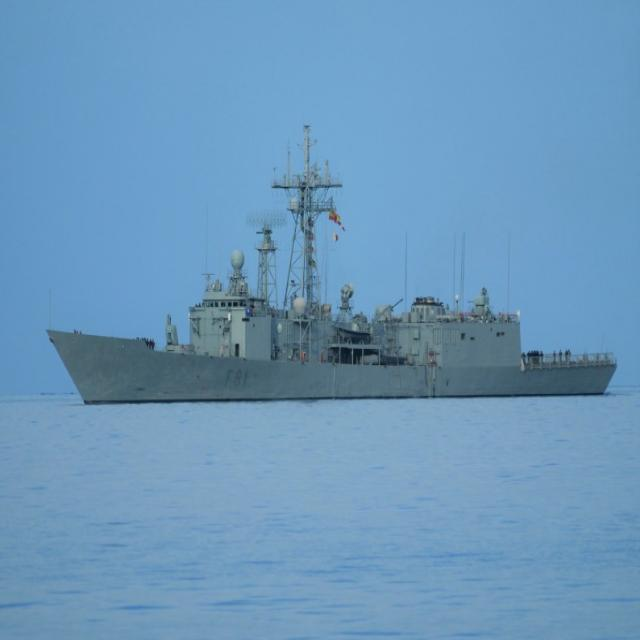Fragata: (46, 114, 621, 409)
